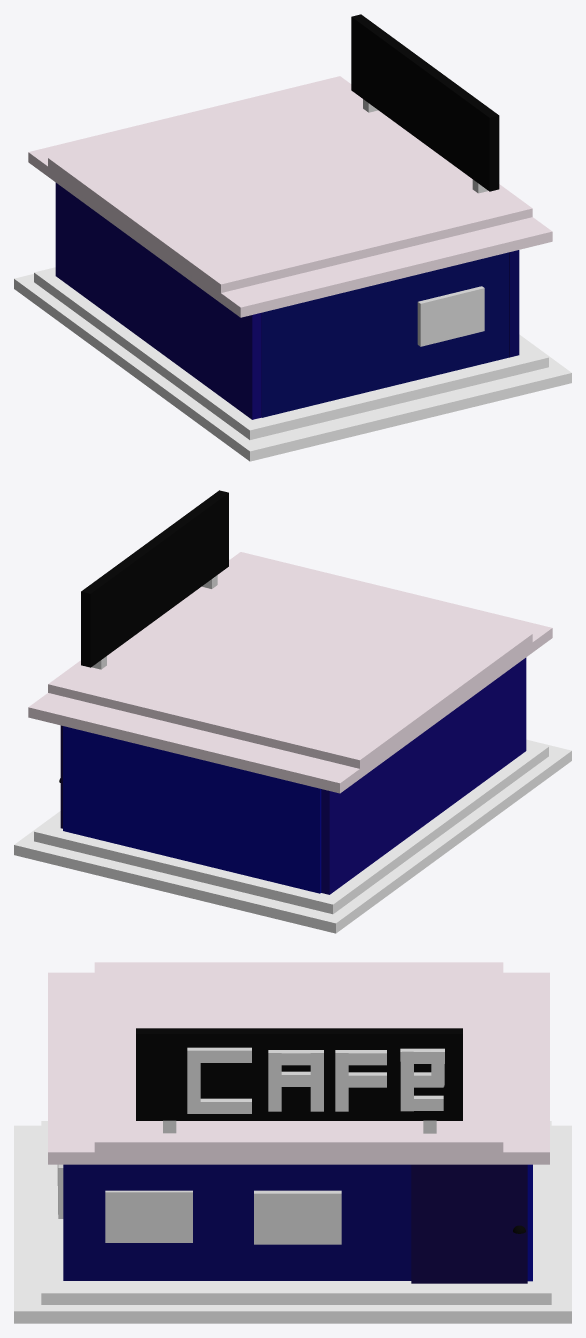
Rendered from кафе.fbx.
The picture shows the model from 3 angles, top to bottom: view 1: azimuth 30°, elevation 25°; view 2: azimuth 150°, elevation 25°; view 3: azimuth 270°, elevation 25°; orthographic projection. The views are drawn at different scales.
Parts seen in each view (by area): view 1: Cube.007, Cube.004, Cube.005, Cube, Cube.011, Cube.002, Cube.001, Cube.010, Cube.006; view 2: Cube.007, Cube.003, Cube.005, Cube, Cube.011, Cube.002, Cube.001; view 3: Cube.007, Cube.006, Cube, Cube.011, Cube.002, Cube.001, Cube.029, Cube.008, Cube.009, Cube.014, Cube.015, Cube.017 (+12 smaller).
Boxes of the visible parts, x1,y1,x2,y2 form: Cube.007: (48, 84, 532, 294); Cube.004: (261, 252, 508, 417); Cube.005: (55, 182, 261, 419); Cube: (28, 76, 552, 317); Cube.011: (351, 14, 499, 191); Cube.002: (14, 274, 571, 461); Cube.001: (34, 267, 548, 439); Cube.010: (417, 286, 484, 346); Cube.006: (509, 250, 519, 357); Cube.007: (48, 559, 532, 768); Cube.003: (63, 726, 321, 893); Cube.005: (321, 657, 526, 894); Cube: (28, 552, 552, 793); Cube.011: (81, 490, 228, 667); Cube.002: (14, 739, 571, 933); Cube.001: (34, 741, 548, 914); Cube.007: (94, 962, 503, 1154); Cube.006: (63, 1164, 411, 1280); Cube: (48, 972, 549, 1164); Cube.011: (136, 1028, 462, 1120); Cube.002: (14, 1125, 571, 1323); Cube.001: (41, 1121, 551, 1304); Cube.029: (411, 1164, 527, 1283); Cube.008: (254, 1190, 341, 1244); Cube.009: (105, 1190, 192, 1242); Cube.014: (187, 1047, 251, 1062); Cube.015: (187, 1098, 251, 1113); Cube.017: (268, 1050, 281, 1111).
Size of the model in its own units: 6603 by 4603 by 8385.
